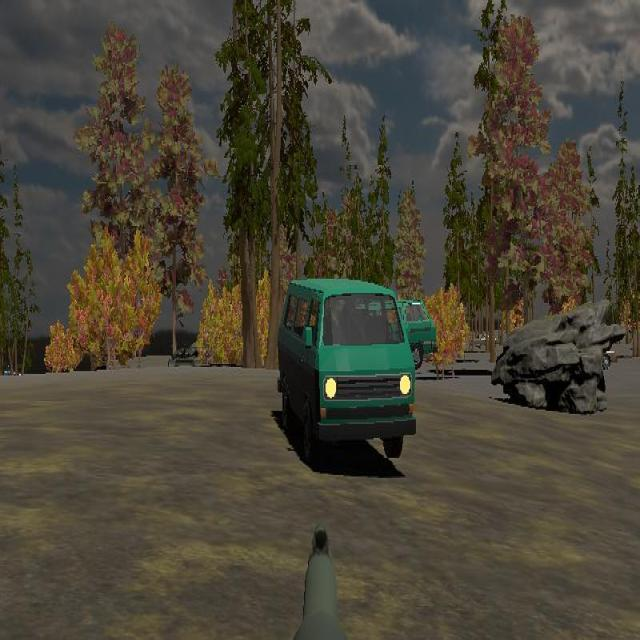car: (274, 277, 418, 468)
